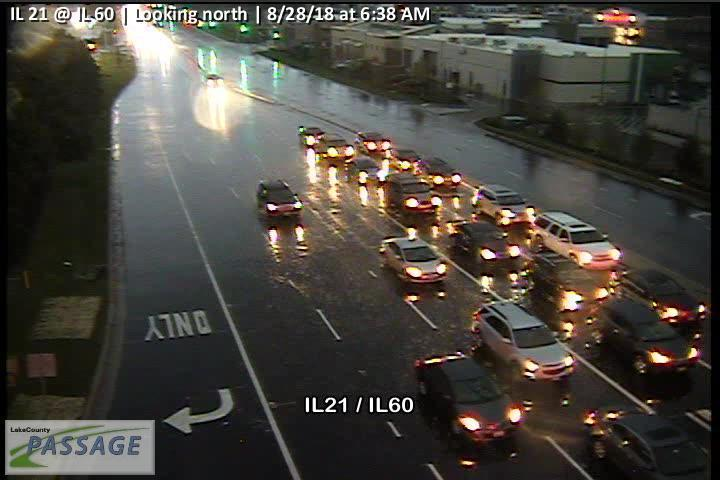SUV: (592, 296, 699, 375), (472, 301, 575, 382), (532, 210, 621, 270), (529, 252, 599, 308), (383, 172, 438, 217), (472, 183, 529, 226), (256, 178, 303, 218), (417, 156, 461, 187), (355, 130, 392, 153), (389, 148, 420, 170)
Sedan: (413, 351, 522, 444), (587, 403, 708, 480), (611, 268, 704, 322), (449, 220, 521, 270), (380, 236, 448, 284), (345, 155, 383, 183)
